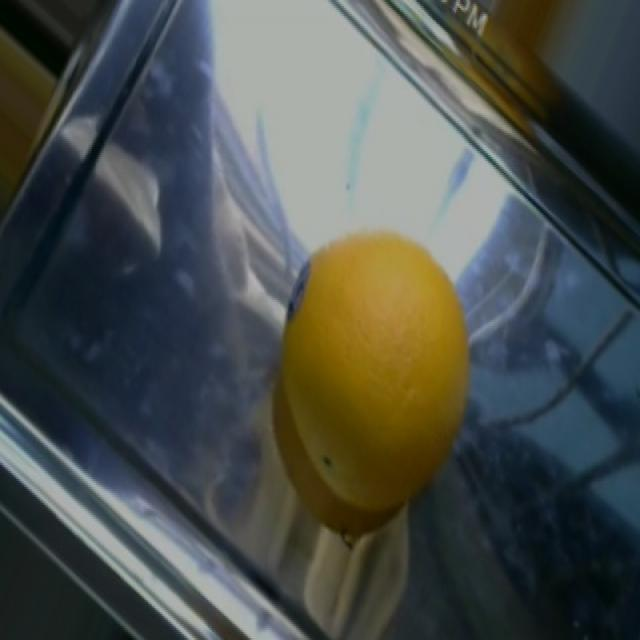Fruit: (248, 210, 488, 550)
